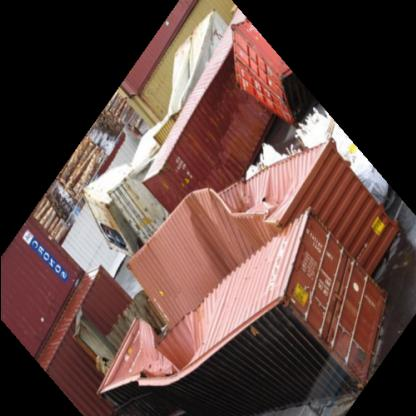Damage: (128, 156, 332, 289), (93, 306, 276, 408)
